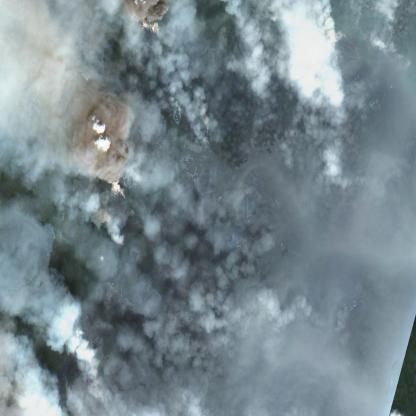fire: (83, 0, 179, 273)
